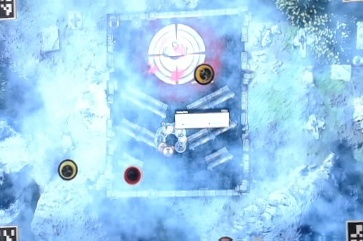lime_green_violet: (55, 158, 78, 181)
red: (120, 164, 143, 187)
yellow_night_blue: (191, 62, 214, 85)
